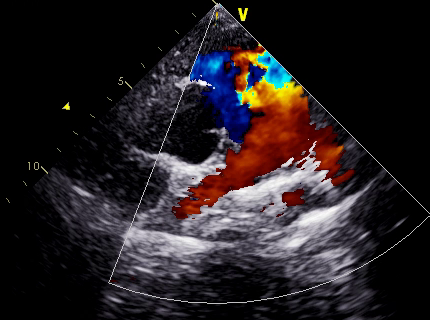PR: (234, 50, 309, 108)
